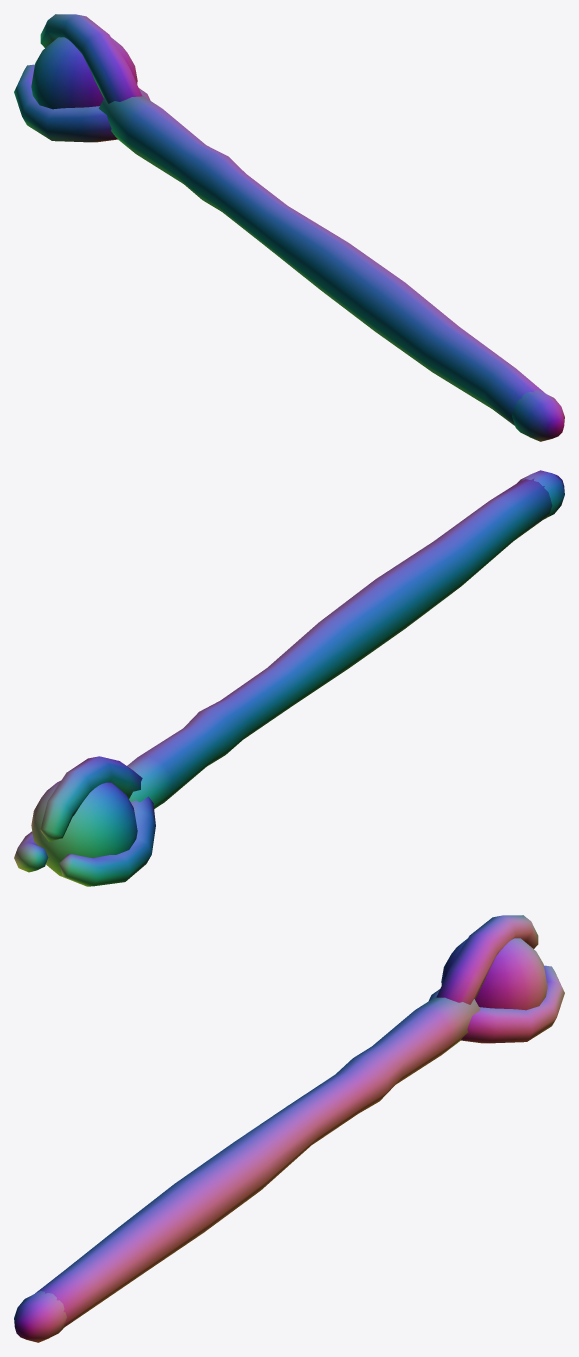
Rendered from SM_Weapon_Staff.fbx.
3 renders of one model, top to bottom at view 1: azimuth 30°, elevation 25°; view 2: azimuth 150°, elevation 25°; view 3: azimuth 330°, elevation 25°, orthographic.
Visible parts, largest first — view 1: SM_Weapon_Staff; view 2: SM_Weapon_Staff; view 3: SM_Weapon_Staff.
Part boxes in pixels (<box>): SM_Weapon_Staff: <box>14,14,564,441</box>; SM_Weapon_Staff: <box>14,470,564,886</box>; SM_Weapon_Staff: <box>14,915,564,1342</box>.
Bounding box in the file's own units: 0.1669 × 0.1646 × 1.36.
